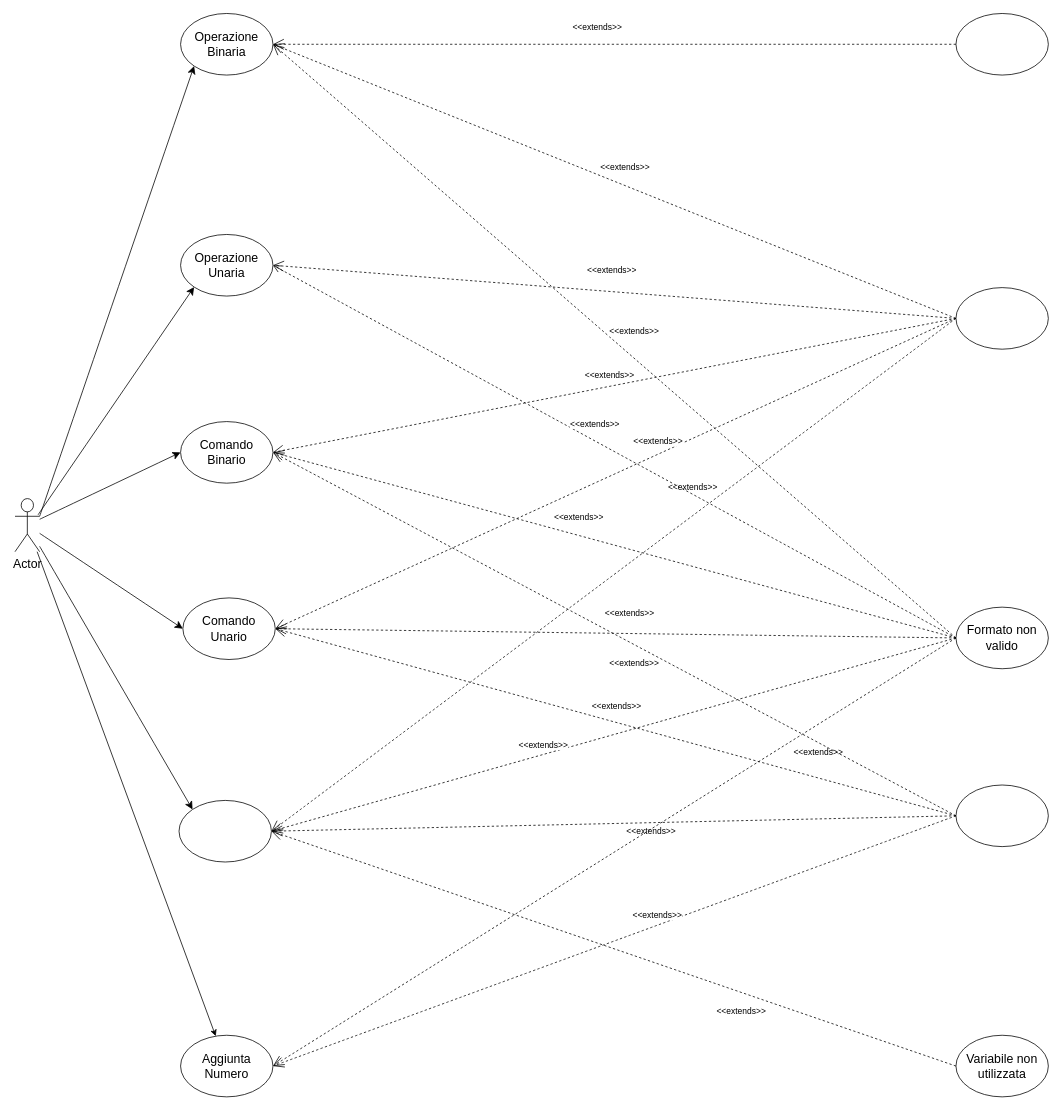
Image size: 1062x1110. Some labels were removed from this diagram. Each missing label, with the centre of its shape:
Divisione per 0: the point at 1001,44
Elementi Insufficienti: the point at 1001,318
Modifica Delle Variabili: the point at 224,831
Stack Pieno: the point at 1001,815
